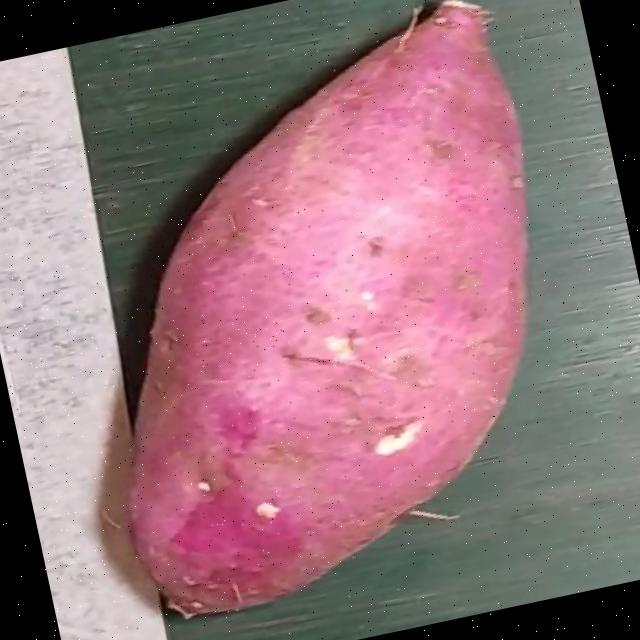Sweet Potato: (124, 0, 527, 622)
